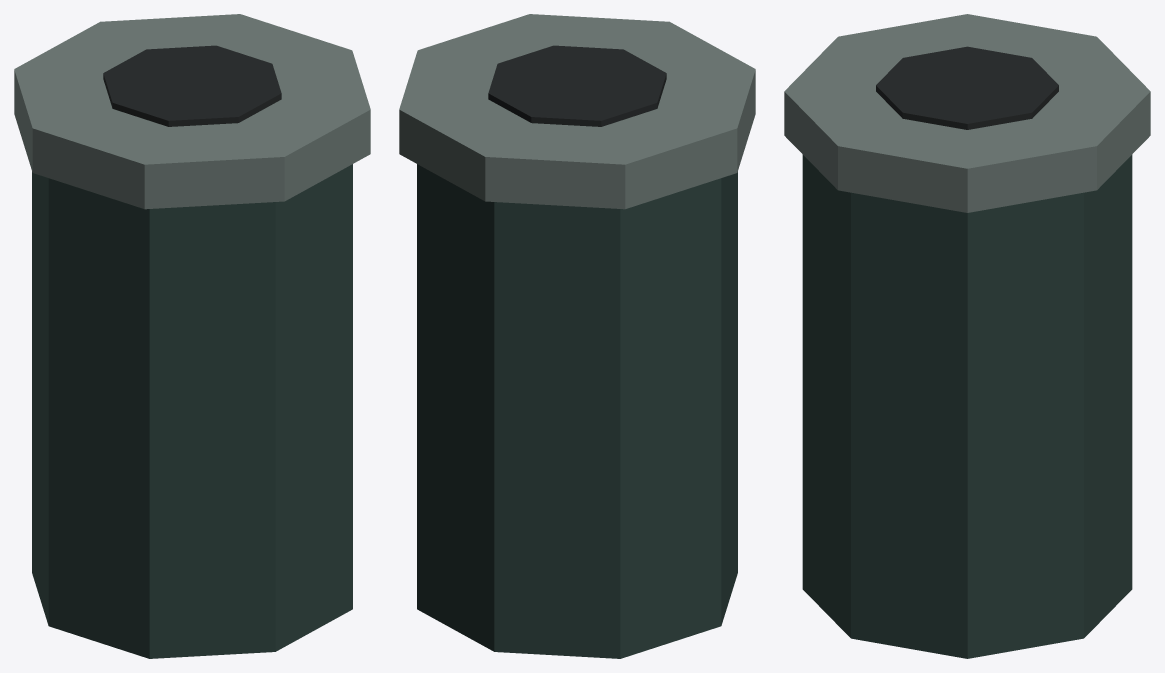
The model's file is LitterBin.obj.
The picture shows the model from 3 angles, left to right: view 1: azimuth 30°, elevation 25°; view 2: azimuth 150°, elevation 25°; view 3: azimuth 270°, elevation 25°; orthographic projection.
Visible parts, largest first — view 1: LitterBin; view 2: LitterBin; view 3: LitterBin.
Boxes of the visible parts, x1,y1,x2,y2 form: LitterBin: (14, 14, 370, 658); LitterBin: (399, 14, 755, 658); LitterBin: (784, 14, 1150, 658).
Bounding box in the file's own units: 0.6 × 0.911 × 0.6.
